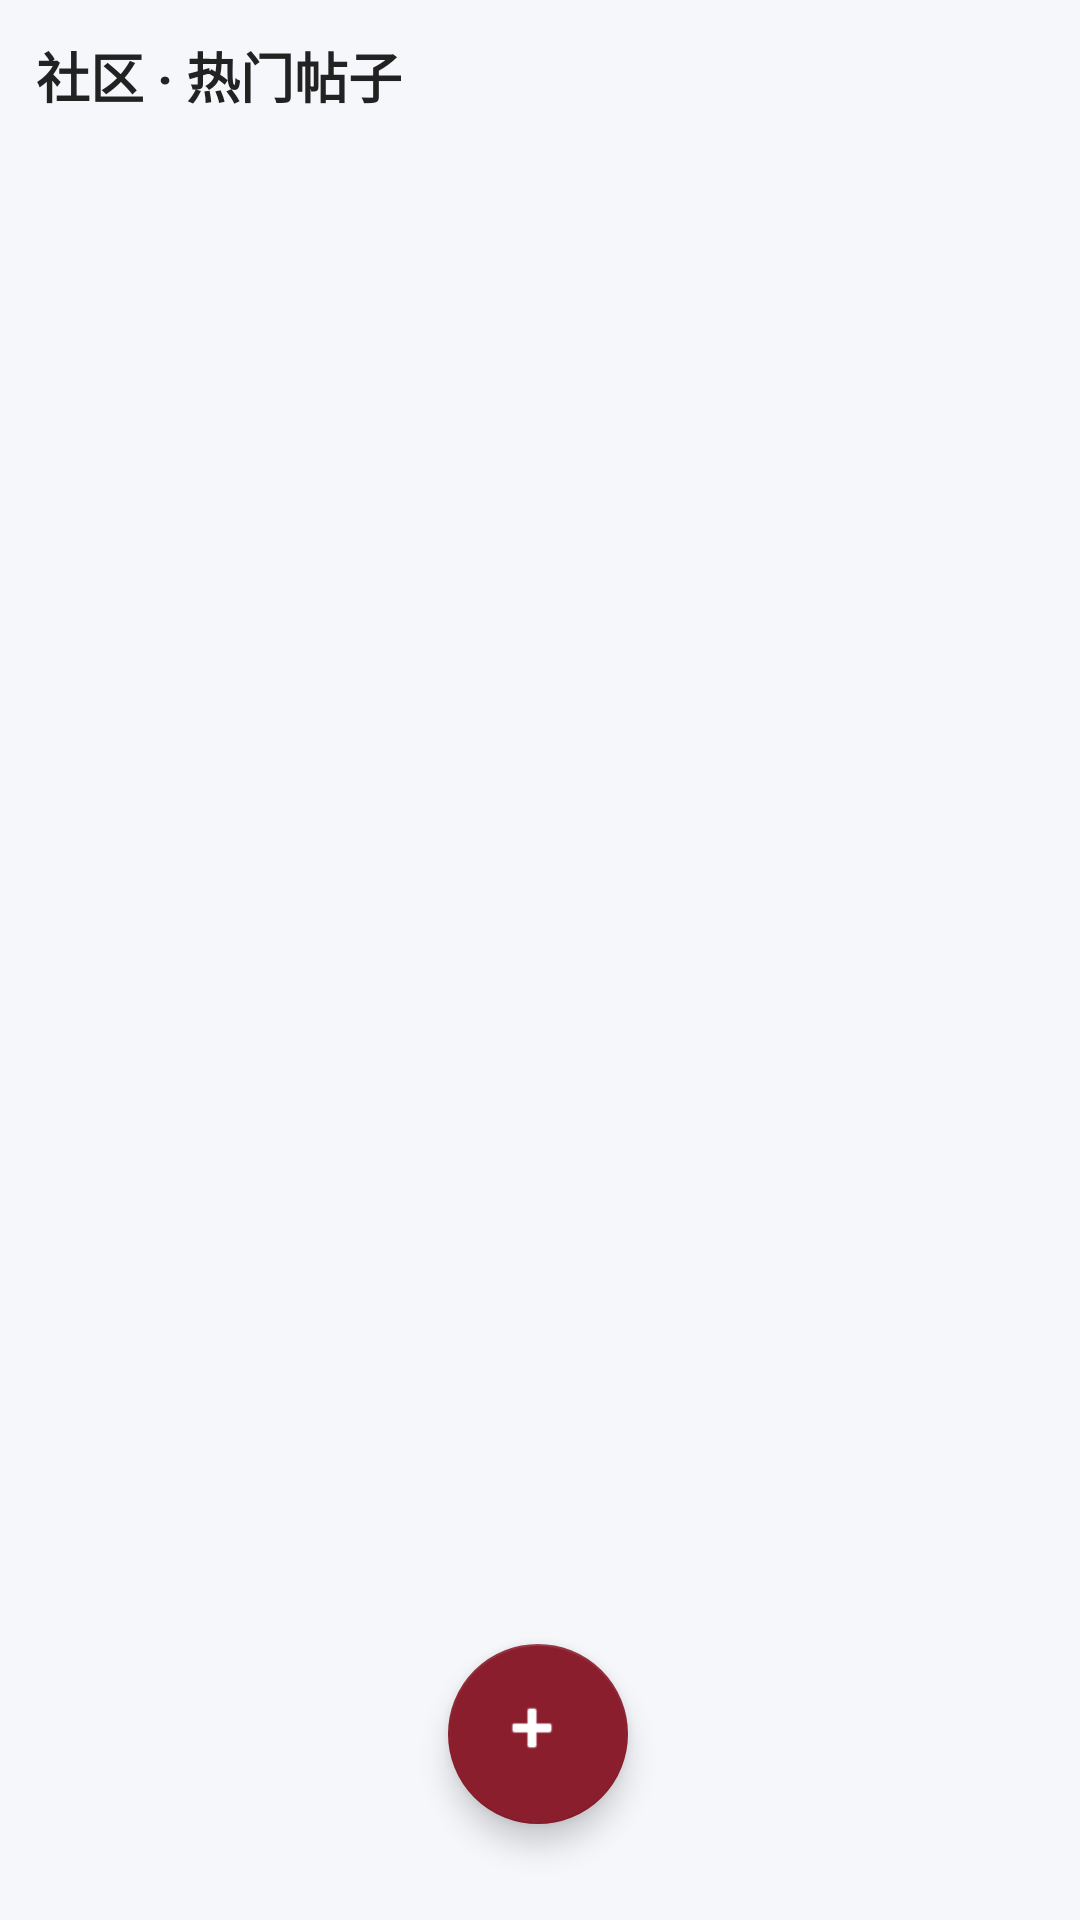

Icon click points for this 1080 x 1920 phone screenshot, format (x=x, y=y):
发布帖子: (x=538, y=1734)
